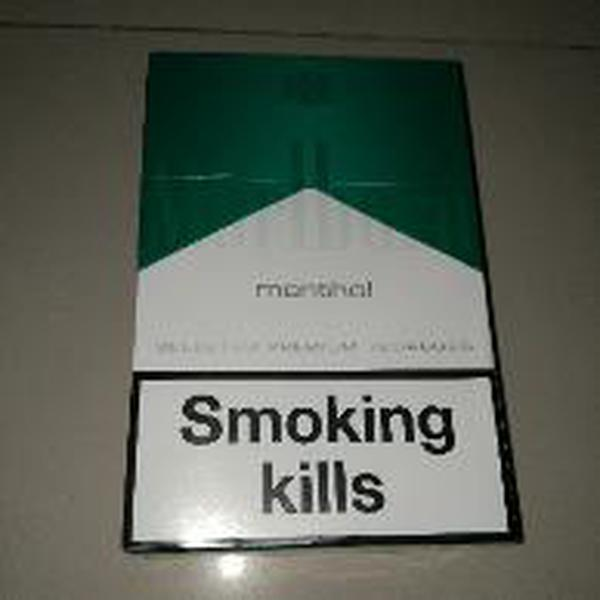marlboro_mentol: (143, 51, 467, 544)
